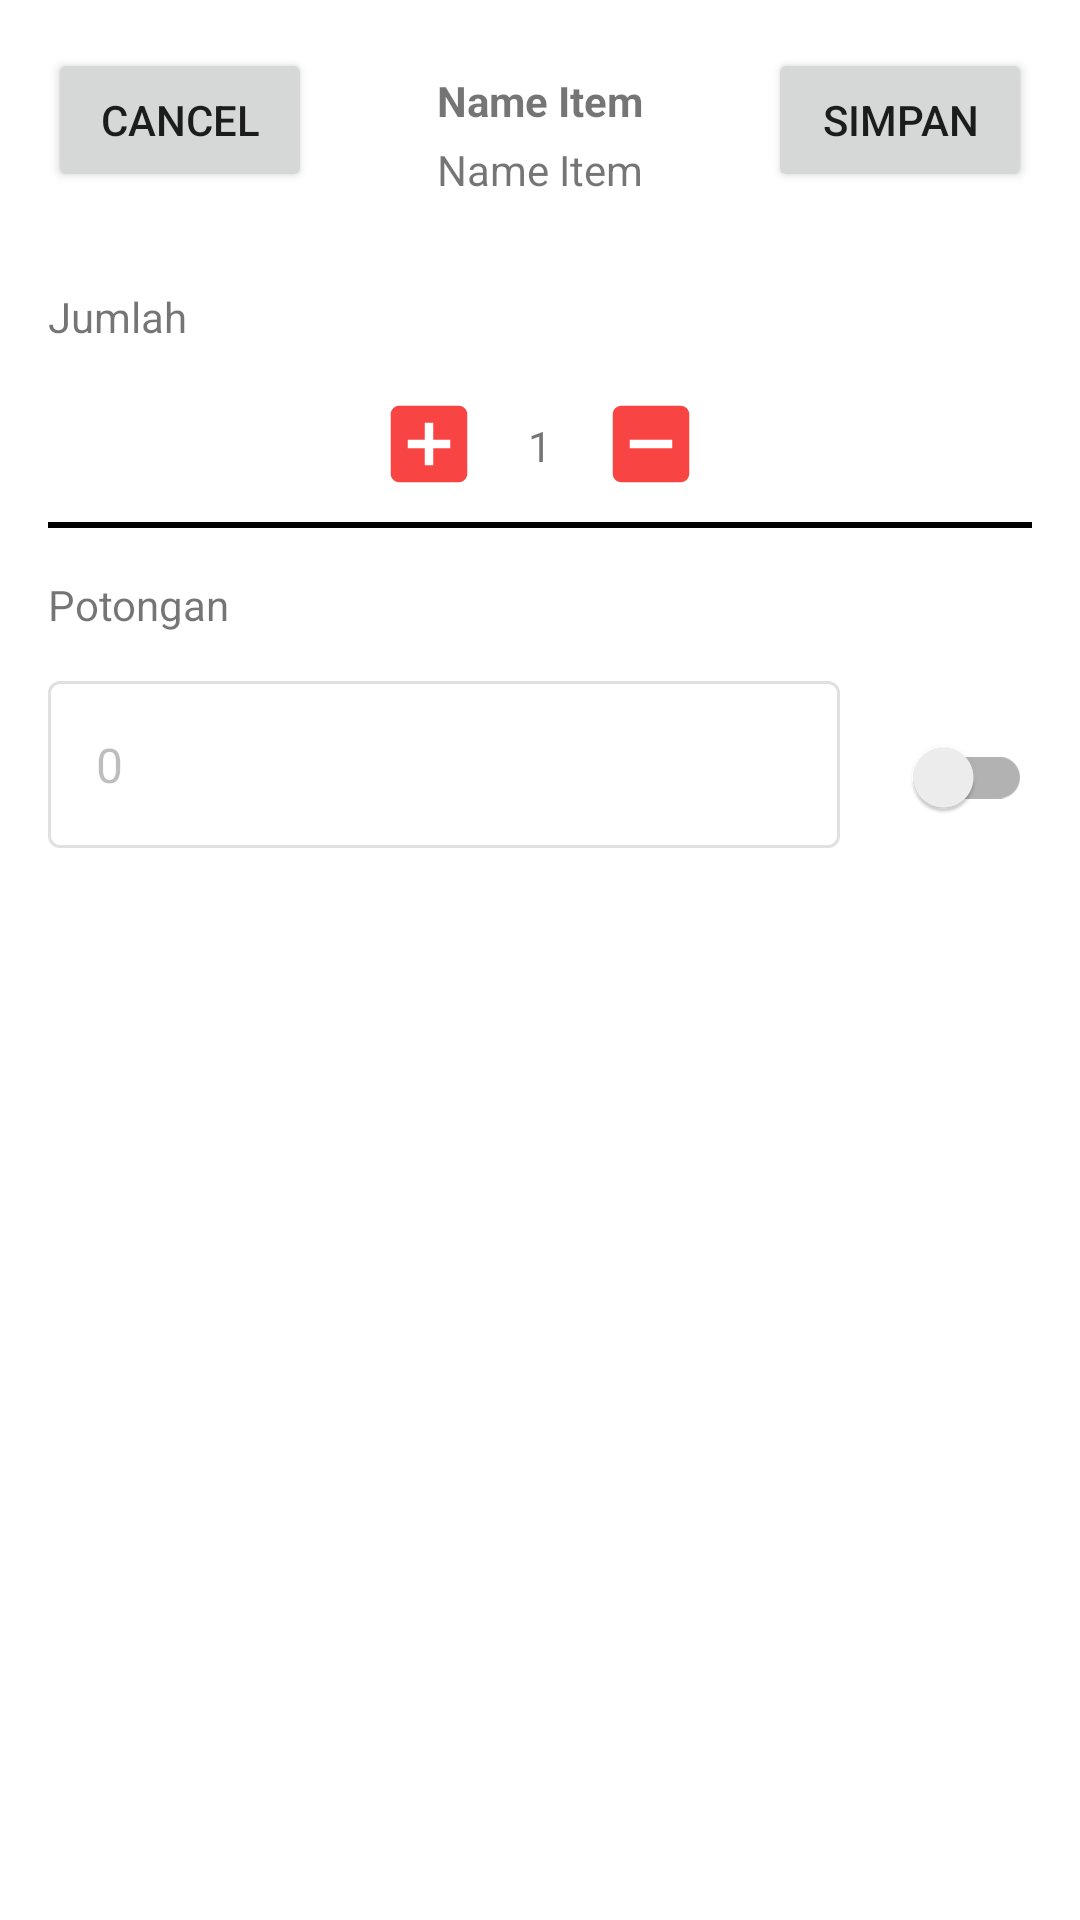

Icon bounding boxes for this 1080×1920 phone screenshot, format (x1, y1, x2, y2):
minus: (612, 405, 690, 483)
plus: (390, 405, 468, 483)
